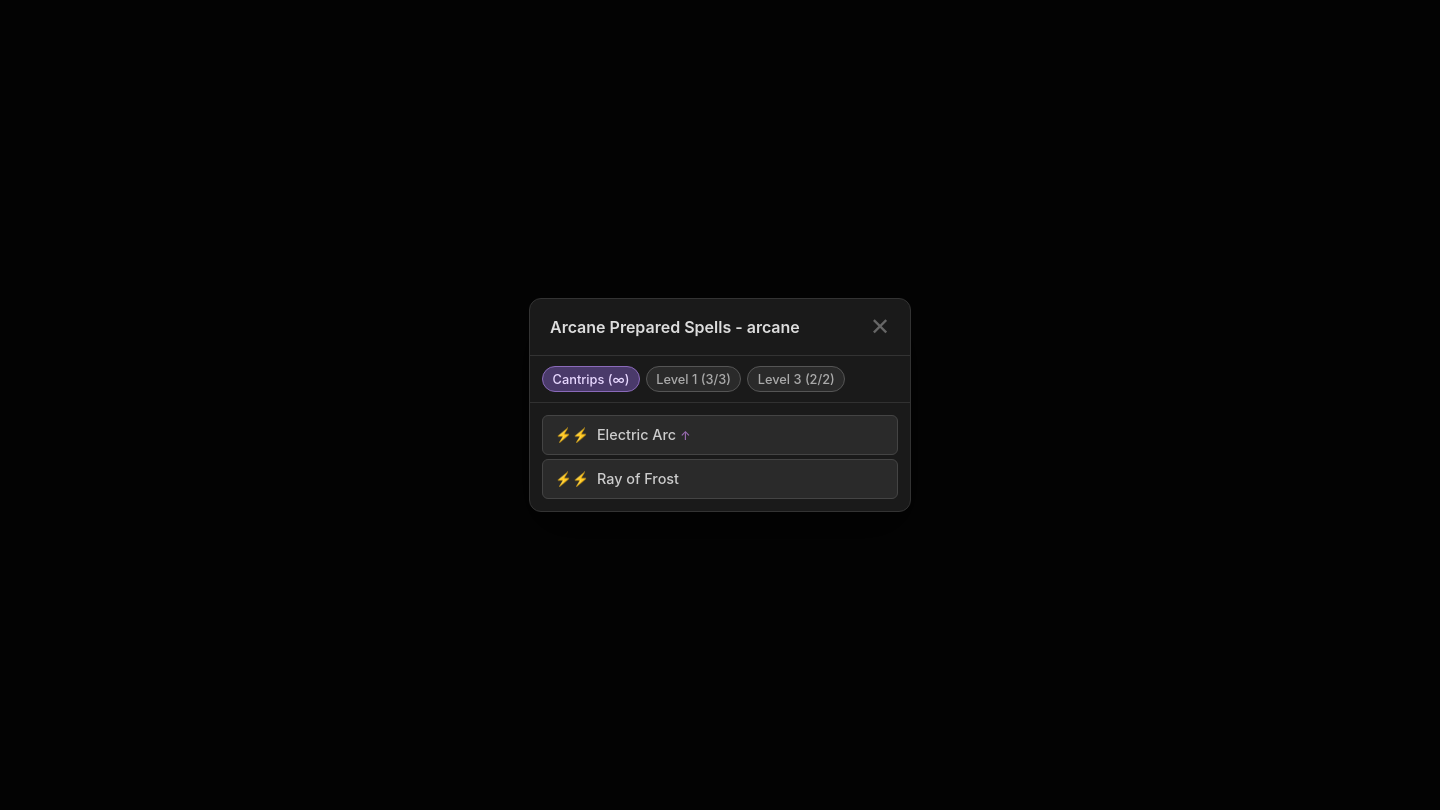
Scenario: SpellPicker › renders spells grouped by level via tabs
The width and height of the screenshot is (1440, 810).
Expected: the tab "Cantrips (∞)" is shown, [542,366,640,392]
Expected: the tab "Level 3 (2/2)" is shown, [747,366,845,392]
Click the tab "Level 1 (3/3)": {"x": 694, "y": 379} [646,366,742,392]
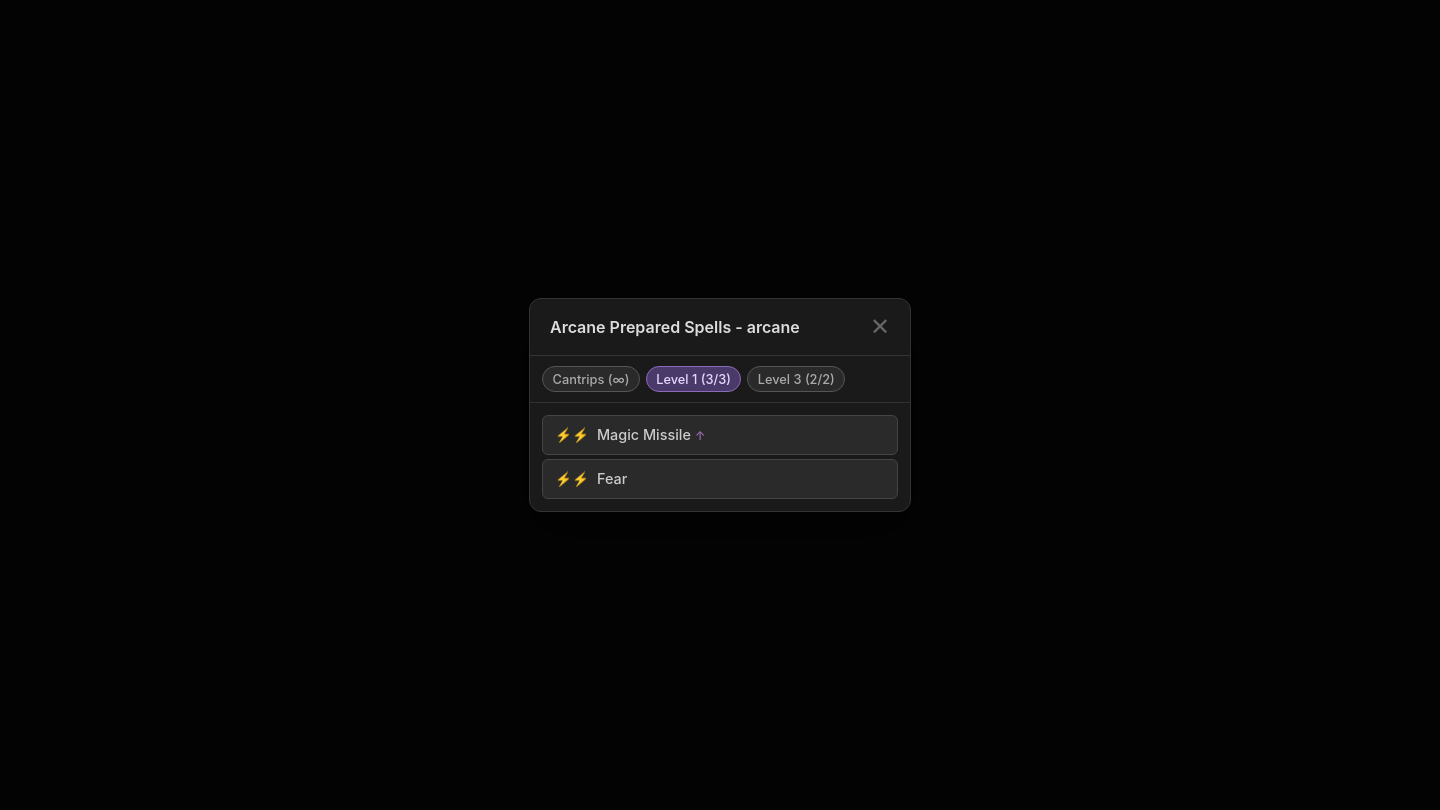
Result: the button "Magic Missile↑" is shown at [597,426,705,443]
Result: the button "Fear" is shown at [597,470,627,487]
Click the tab "Level 3 (2/2)": {"x": 796, "y": 379} [747,366,845,392]
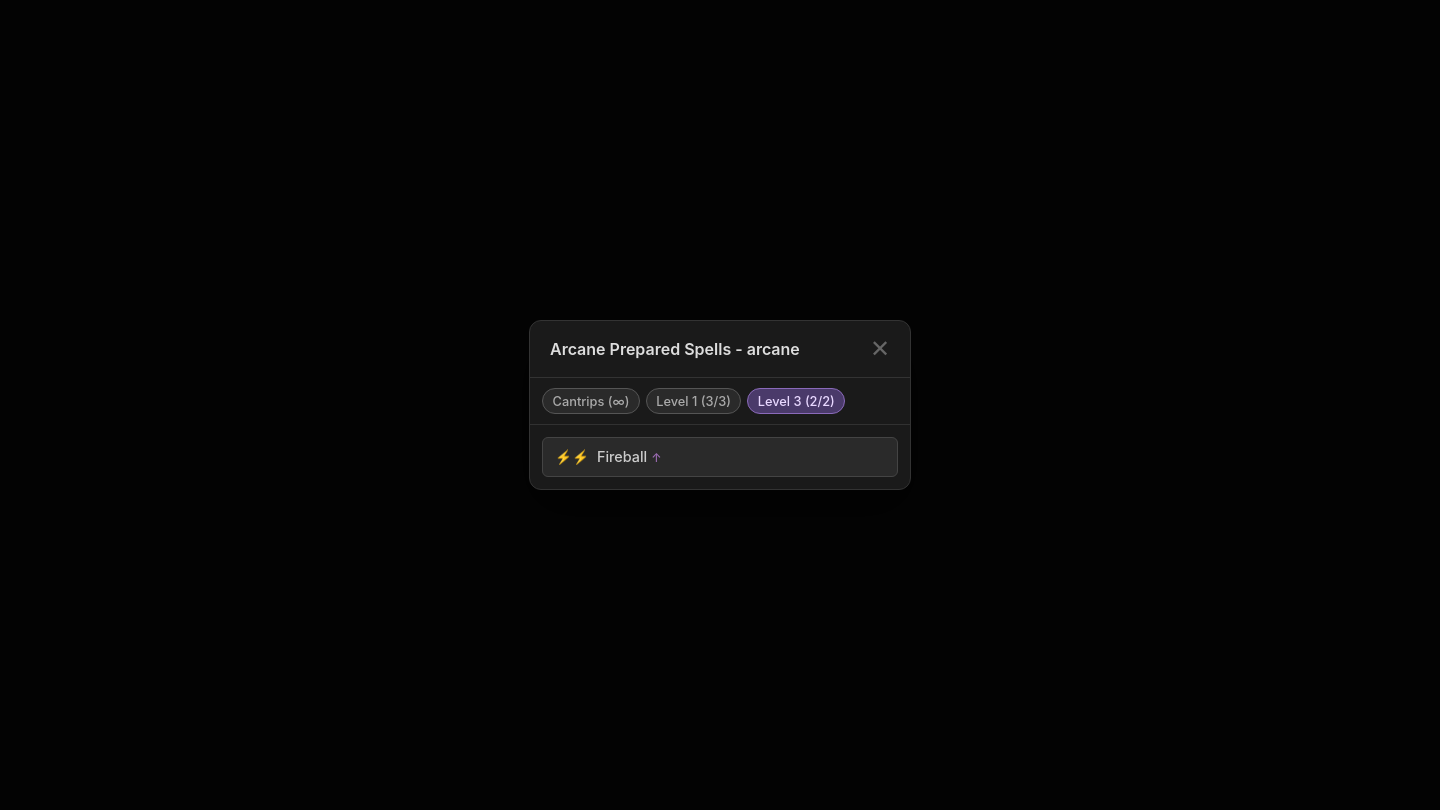
Result: the button "Fireball↑" is shown at [597,448,662,465]
